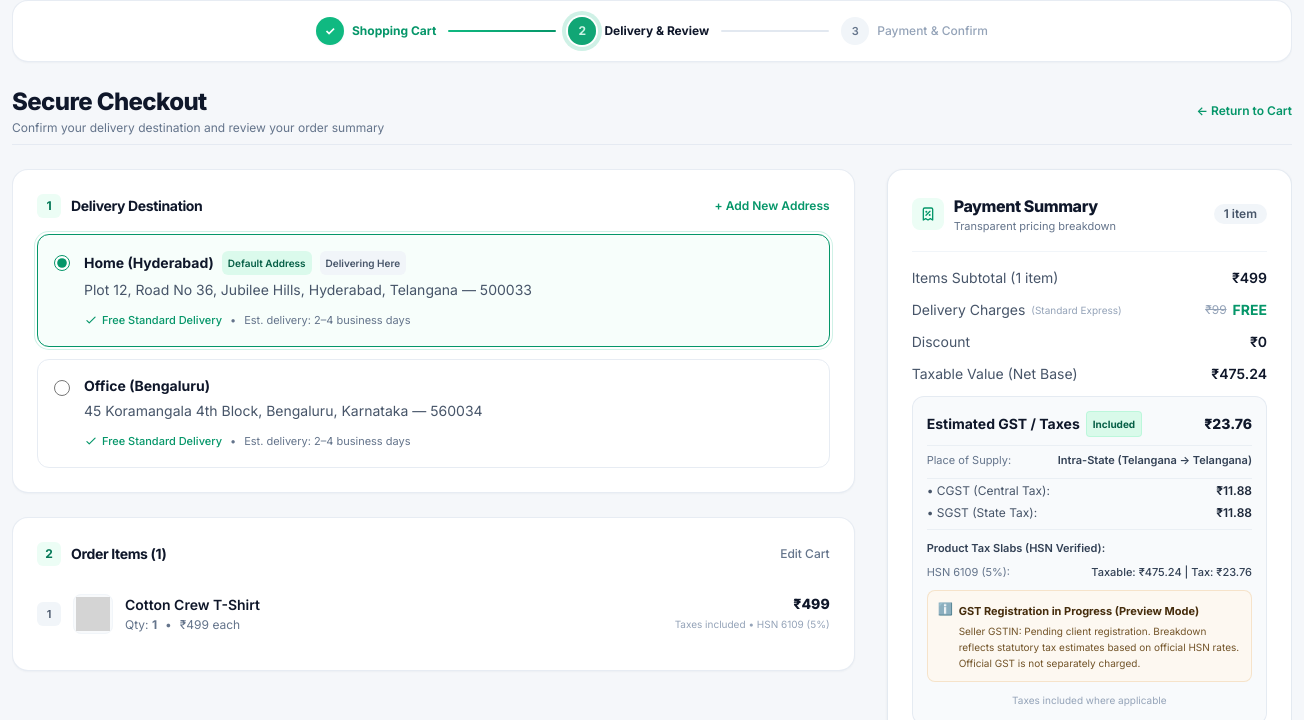
Test case: CheckoutPage - Professional Payment Summary & Accurate Tax/Security Badges › calculates inter-state IGST when delivery address is Karnataka
The width and height of the screenshot is (1304, 720).
Note: Switch to Karnataka address
Click the text "Office (Bengaluru)" at (147, 386), box [84,376,210,396]
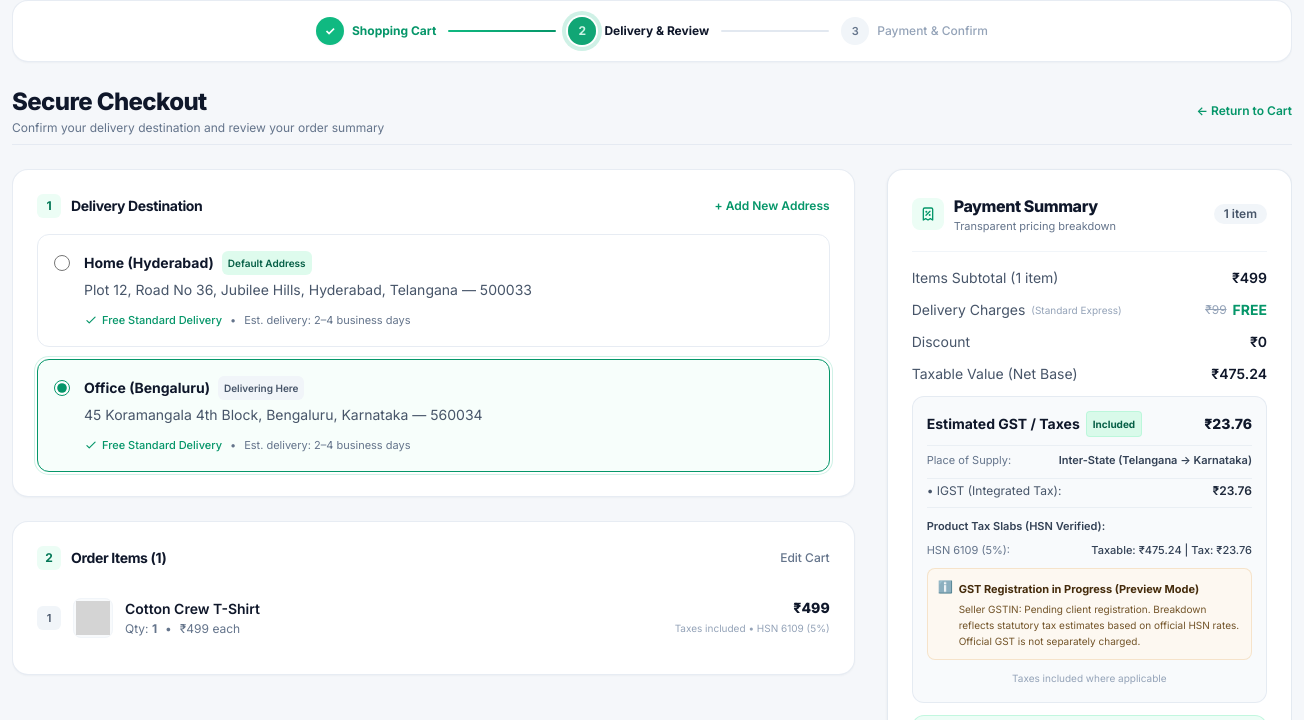
Check: the text "Inter-State (Telangana → Karnataka)" is shown, box [1059,450,1252,470]
Check: the text "• IGST (Integrated Tax):" is shown, box [927,482,1061,498]
Check: the text "• CGST (Central Tax):" is gone
